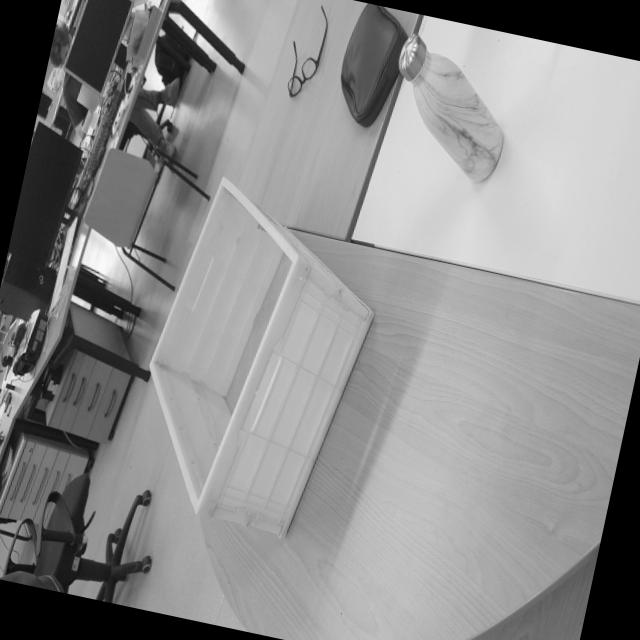box: (107, 164, 399, 582)
